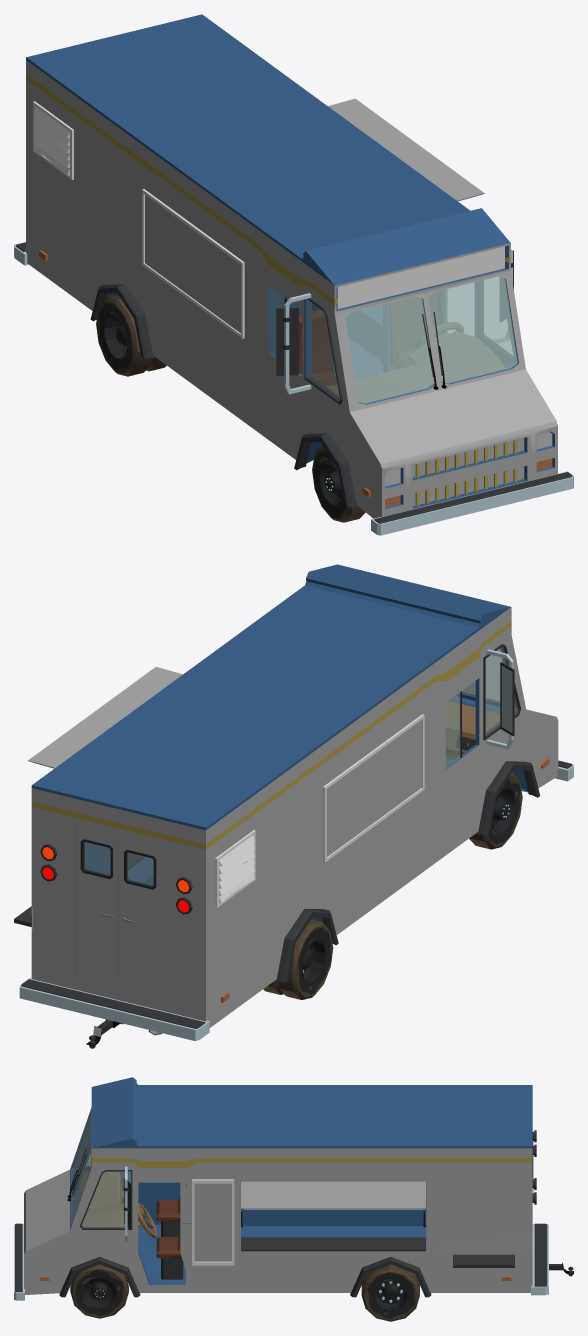
File: FoodTruckLongv2.fbx
3 renders of one model, top to bottom at view 1: azimuth 30°, elevation 25°; view 2: azimuth 150°, elevation 25°; view 3: azimuth 270°, elevation 25°, orthographic. The views are drawn at different scales.
Visible parts, largest first — view 1: MainBody, Board2, Dash, TopDoor1, RearTire1, TireFL1; view 2: MainBody, Board2, RearDoor6, RearDoor5, TopDoor1, RearTire1, TireFL1, Dash; view 3: MainBody, TopDoor1, Board1, RearTire, TireFL, Dash, DoorShape, SteeringWheel.
Boxes of the visible parts, left/top/right/bottom form: MainBody: left=14, top=14, right=573, bottom=535; Board2: left=142, top=189, right=244, bottom=338; Dash: left=327, top=332, right=504, bottom=402; TopDoor1: left=328, top=98, right=484, bottom=201; RearTire1: left=96, top=294, right=166, bottom=376; TireFL1: left=312, top=444, right=365, bottom=522; MainBody: left=14, top=564, right=573, bottom=1041; Board2: left=323, top=714, right=424, bottom=862; RearDoor6: left=76, top=826, right=118, bottom=982; RearDoor5: left=119, top=837, right=161, bottom=992; TopDoor1: left=28, top=667, right=182, bottom=768; RearTire1: left=263, top=919, right=333, bottom=999; TireFL1: left=469, top=772, right=522, bottom=849; Dash: left=446, top=701, right=499, bottom=760; MainBody: left=14, top=1077, right=548, bottom=1300; TopDoor1: left=241, top=1181, right=425, bottom=1209; Board1: left=192, top=1179, right=234, bottom=1265; RearTire: left=361, top=1264, right=419, bottom=1321; TireFL: left=70, top=1264, right=128, bottom=1318; Dash: left=81, top=1172, right=124, bottom=1226; DoorShape: left=180, top=1182, right=186, bottom=1270; SteeringWheel: left=138, top=1202, right=157, bottom=1237.
Bounding box in the file's own units: 383 × 325 × 910.
